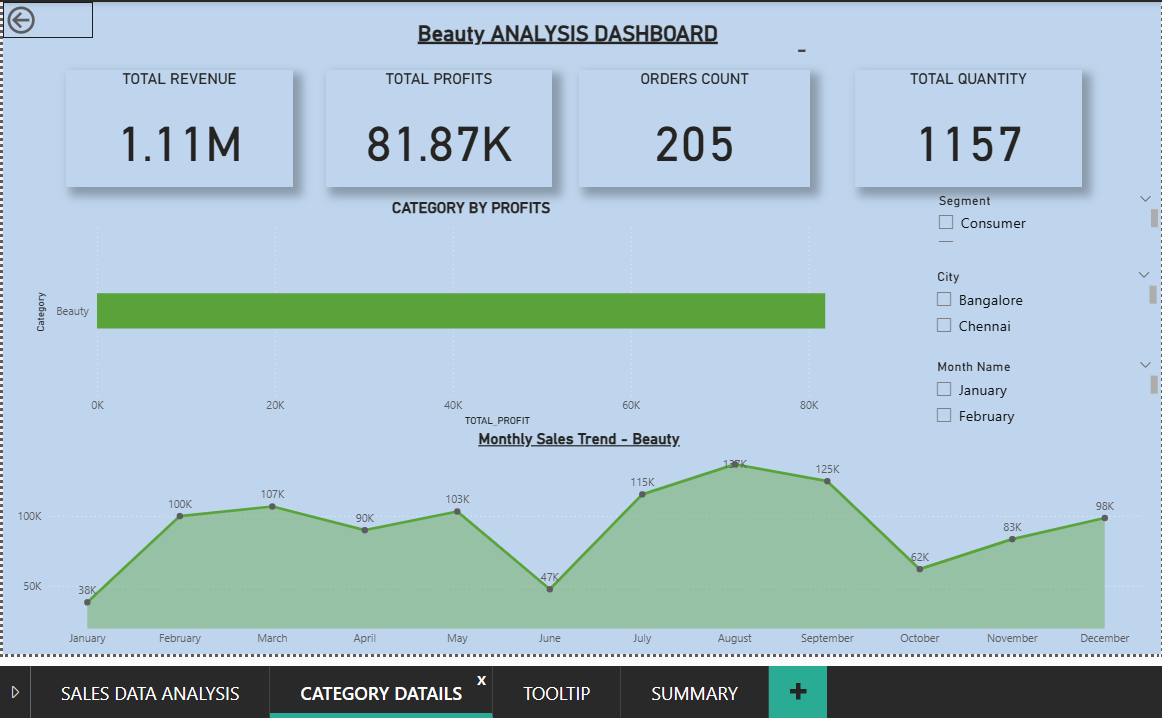

This screenshot's page, from the dashboard's own definition file:
{"tool":"powerbi","page":{"name":"CATEGORY DATAILS","canvas":[1280,720],"ordinal":1},"visuals":[{"type":"card","title":"TOTAL QUANTITY","fields":{"Values":["sales_data.TOTAL_QUANTITY"]},"box":[940.1,74.8,250.5,130.1],"z":0},{"type":"actionButton","box":[0,0,100,40],"z":1000},{"type":"card","title":"TOTAL PROFITS","fields":{"Values":["sales_data.TOTAL_PROFIT"]},"box":[356.2,74.8,250.5,130.1],"z":2000},{"type":"card","title":"ORDERS COUNT","fields":{"Values":["sales_data.COUNT_ORDERS"]},"box":[636,74.8,255.4,130.1],"z":3000},{"type":"clusteredBarChart","title":"CATEGORY BY PROFITS","fields":{"Category":["sales_data.Category"],"Y":["sales_data.TOTAL_PROFIT"]},"box":[30.9,216.3,971,255.4],"z":4000},{"type":"areaChart","fields":{"Category":["Calendar.Month Name"],"Y":["sales_data.TOTAL_SALES"]},"box":[9.9,472.1,1252.3,248.5],"z":5000},{"type":"card","title":"TOTAL REVENUE","fields":{"Values":["sales_data.TOTAL_SALES"]},"box":[69.9,74.8,250.5,130.1],"z":6000},{"type":"slicer","fields":{"Values":["sales_data.Segment"]},"box":[1019.8,204.9,260.2,63.4],"z":7000},{"type":"slicer","fields":{"Values":["sales_data.City"]},"box":[1018.2,289.5,260.2,84.6],"z":8000},{"type":"slicer","fields":{"Values":["Calendar.Month Name"]},"box":[1018.2,388.7,261.9,83],"z":9000},{"type":"textbox","box":[356.2,19.5,535.1,40.7],"z":10000}]}

Visuals, with their boxes on the page's 1280x720 design canvas (x1, y1, x2, y2). These are canvas units, not pixel positions in the 1162x718 screenshot, which may show the page scaled, cropped or inside an application window:
"TOTAL QUANTITY" card: [940,75,1191,205]
actionButton: [0,0,100,40]
"TOTAL PROFITS" card: [356,75,607,205]
"ORDERS COUNT" card: [636,75,891,205]
"CATEGORY BY PROFITS" clusteredBarChart: [31,216,1002,472]
areaChart - Calendar.Month Name x sales_data.TOTAL_SALES: [10,472,1262,721]
"TOTAL REVENUE" card: [70,75,320,205]
slicer - sales_data.Segment: [1020,205,1280,268]
slicer - sales_data.City: [1018,290,1278,374]
slicer - Calendar.Month Name: [1018,389,1280,472]
textbox: [356,20,891,60]
